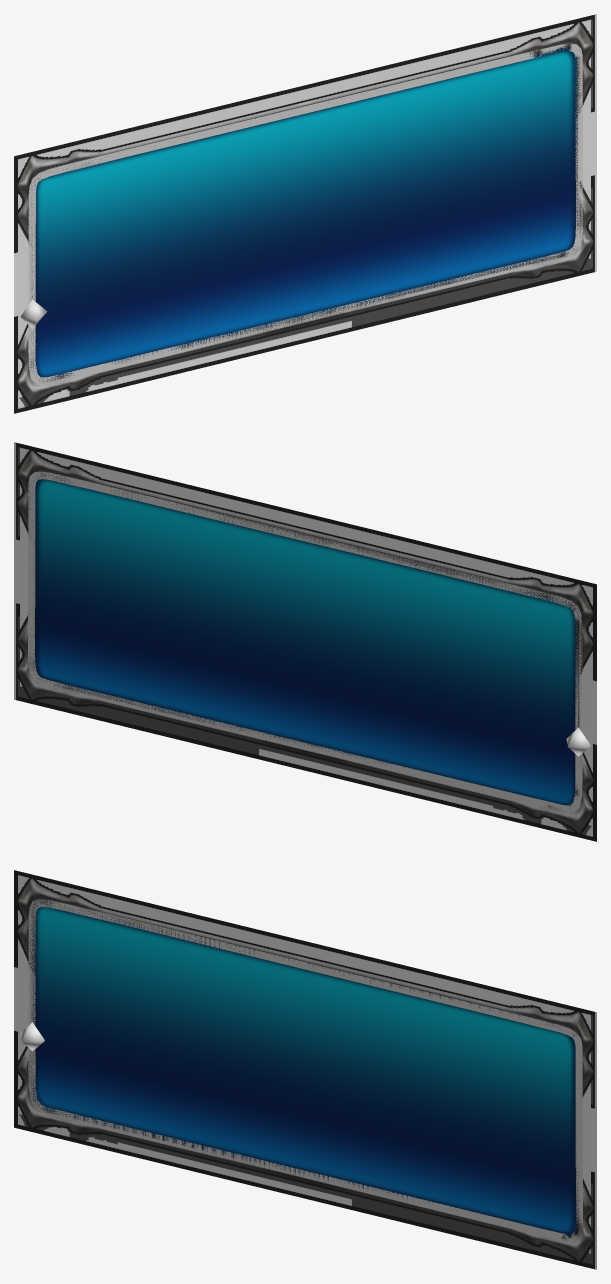
File: kaiqigongneng_pian.FBX
3 views of the same model, one above another, from view 1: azimuth 30°, elevation 25°; view 2: azimuth 150°, elevation 25°; view 3: azimuth 330°, elevation 25° (orthographic).
Parts seen in each view (by area): view 1: diban, uv_pian; view 2: diban, uv_pian; view 3: diban, uv_pian.
Part boxes in pixels (bbox=[...]): diban: bbox=[14, 14, 596, 413]; uv_pian: bbox=[28, 43, 582, 385]; diban: bbox=[14, 442, 596, 841]; uv_pian: bbox=[28, 471, 582, 813]; diban: bbox=[14, 870, 596, 1269]; uv_pian: bbox=[28, 899, 582, 1242].
Size of the model in its own units: 578 by 244 by 27.36.
1 material, 1 textured.
